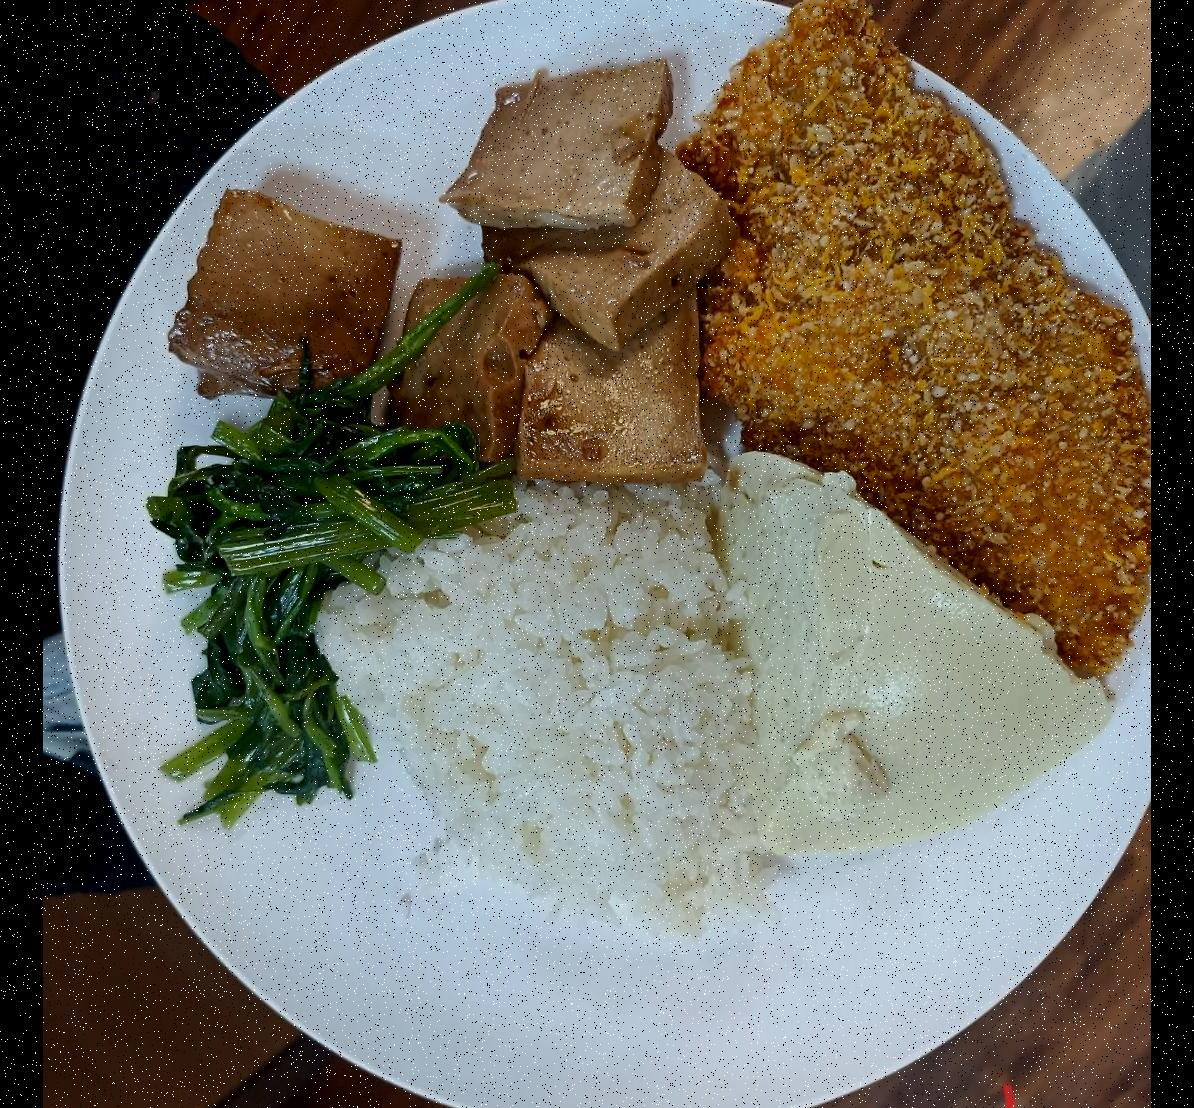chicken steak: (696, 30, 1143, 653)
plate: (61, 0, 1141, 1108)
side dish: (182, 78, 708, 464), (721, 443, 1106, 872), (166, 398, 392, 798)
white rice: (346, 480, 745, 921)
